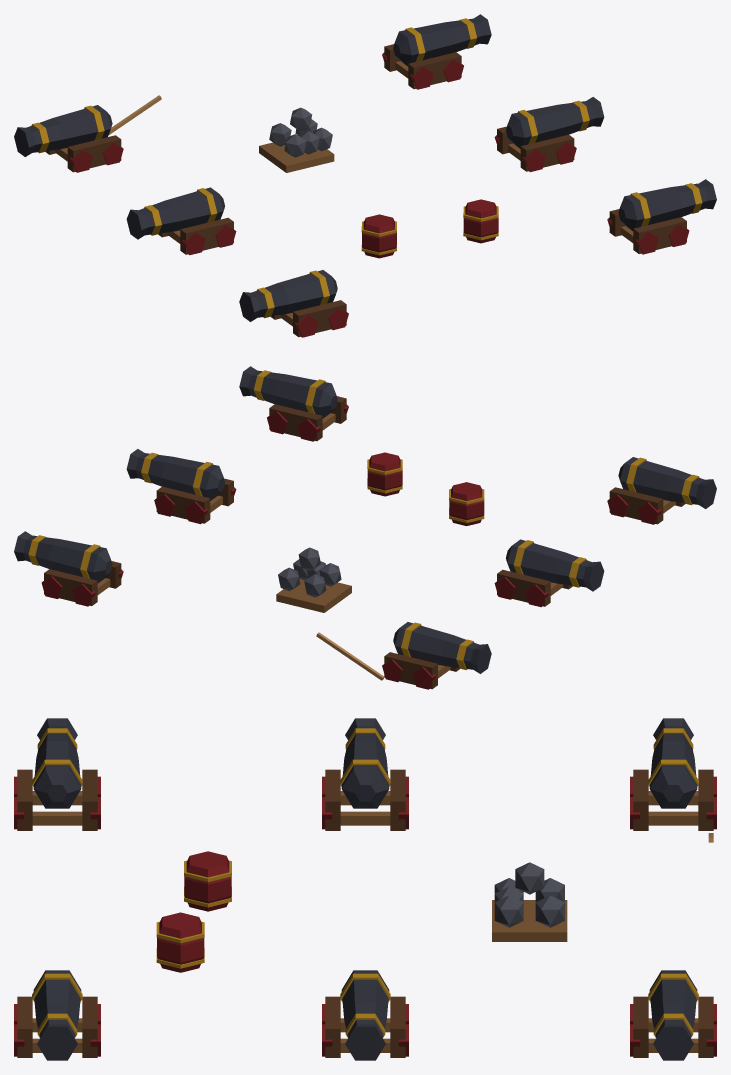
Rendered from Decor_PirateShip_Cannons.fbx.
The picture shows the model from 3 angles, top to bottom: view 1: azimuth 30°, elevation 25°; view 2: azimuth 150°, elevation 25°; view 3: azimuth 270°, elevation 25°; orthographic projection. The views are drawn at different scales.
Visible parts, largest first — view 1: Cannons_Body; view 2: Cannons_Body; view 3: Cannons_Body.
Boxes of the visible parts, x1=… form: Cannons_Body: x1=14, y1=14, x2=716, y2=337; Cannons_Body: x1=14, y1=366, x2=716, y2=689; Cannons_Body: x1=14, y1=718, x2=716, y2=1060.
Size of the model in its own units: 21.2 by 2.2 by 20.4.
